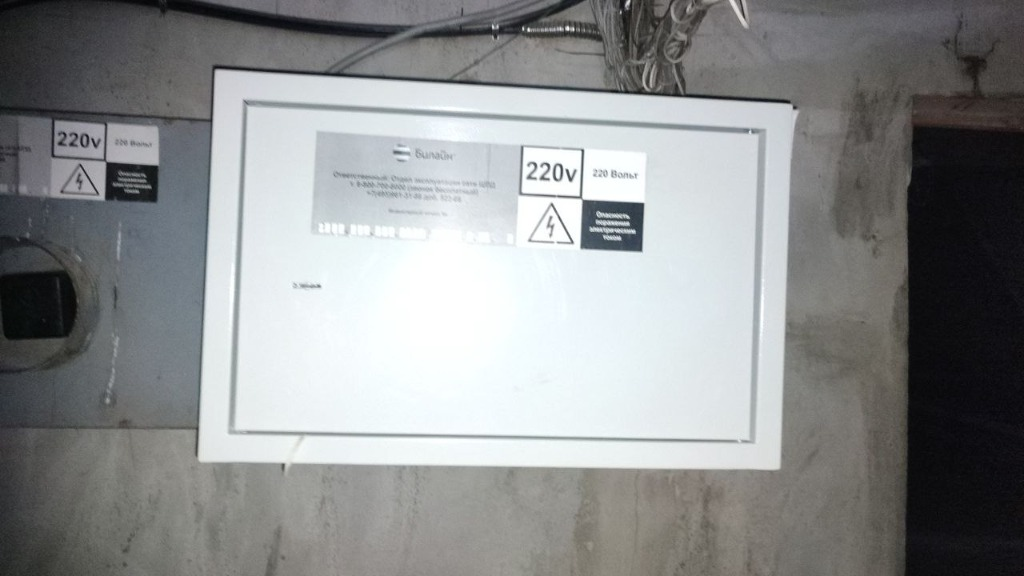shta-3: (2, 106, 202, 429)
shta-7m: (193, 59, 795, 477)
